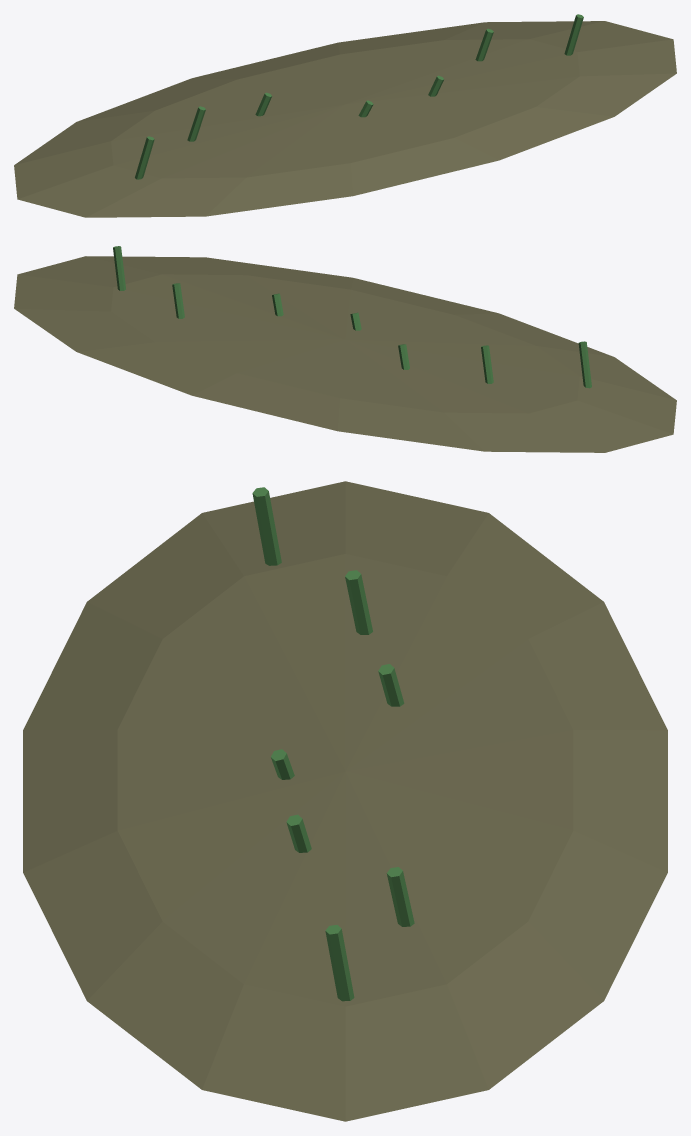
File: delta_island_b.obj
3 views of the same model, one above another, from view 1: azimuth 30°, elevation 25°; view 2: azimuth 150°, elevation 25°; view 3: azimuth 270°, elevation 25° (orthographic). The views are drawn at different scales.
Visible parts, largest first — view 1: island, filter_stalk_0, filter_stalk_6; view 2: island, filter_stalk_0, filter_stalk_6, filter_stalk_1; view 3: island, filter_stalk_0, filter_stalk_6, filter_stalk_1, filter_stalk_5.
Part boxes in pixels (box(x1,y1,x2,y2)): island: box(14, 21, 676, 217); filter_stalk_0: box(135, 136, 154, 179); filter_stalk_6: box(564, 14, 583, 55); island: box(14, 256, 676, 452); filter_stalk_0: box(578, 341, 591, 388); filter_stalk_6: box(113, 246, 125, 290); filter_stalk_1: box(481, 345, 493, 383); island: box(23, 481, 667, 1121); filter_stalk_0: box(252, 487, 281, 565); filter_stalk_6: box(325, 925, 354, 1001); filter_stalk_1: box(345, 570, 372, 634); filter_stalk_5: box(386, 867, 414, 926).
Bounding box in the file's own units: 11 × 1.05 × 4.68.
